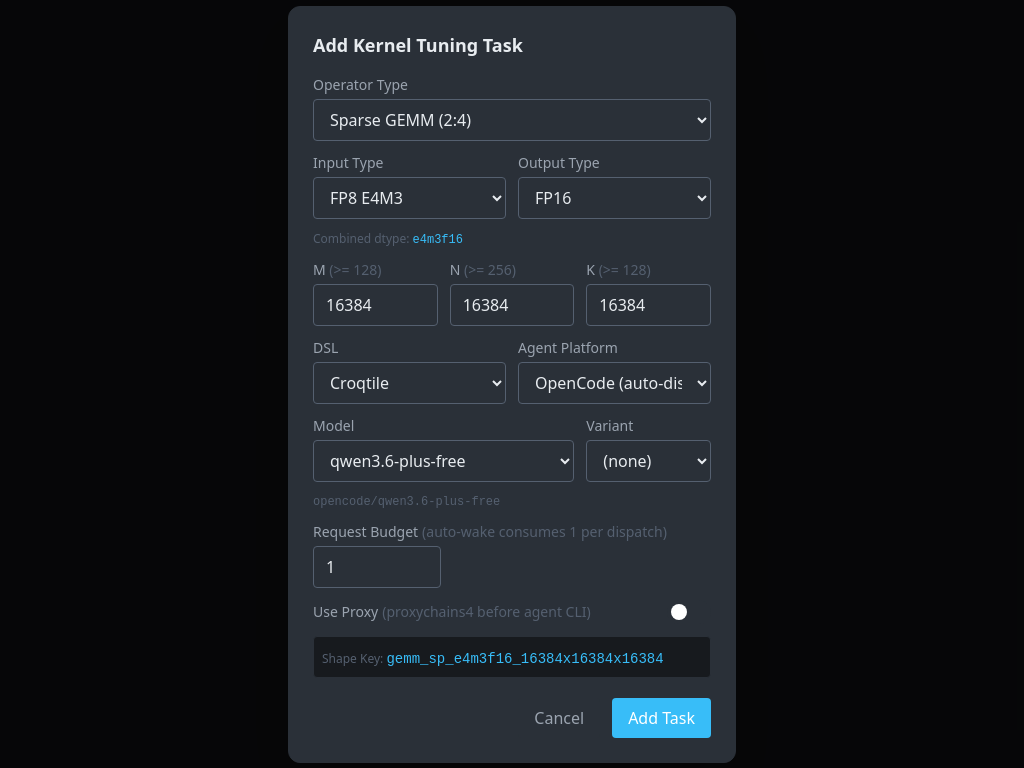
Test: AddTaskForm › shows validation error for M < 128
Replace the text in the 1st number field with "64" at (375, 304), box 313,284 -> 438,326
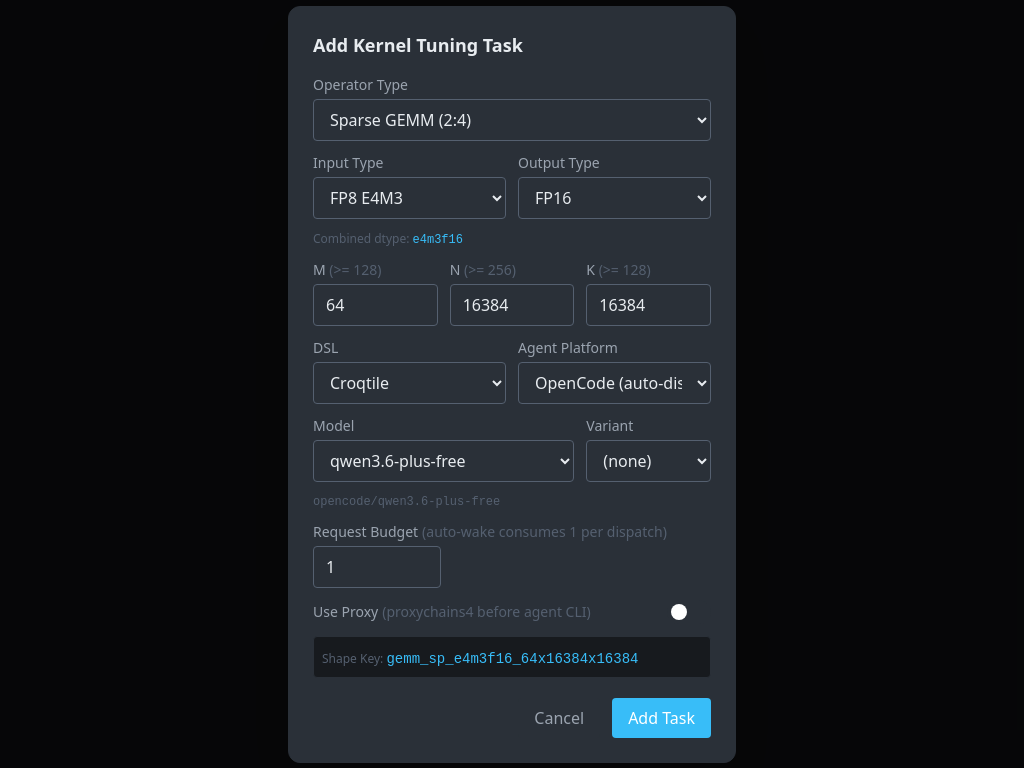
Replace the text in the number field below "256" with "512" at (512, 304), box 450,284 -> 574,326
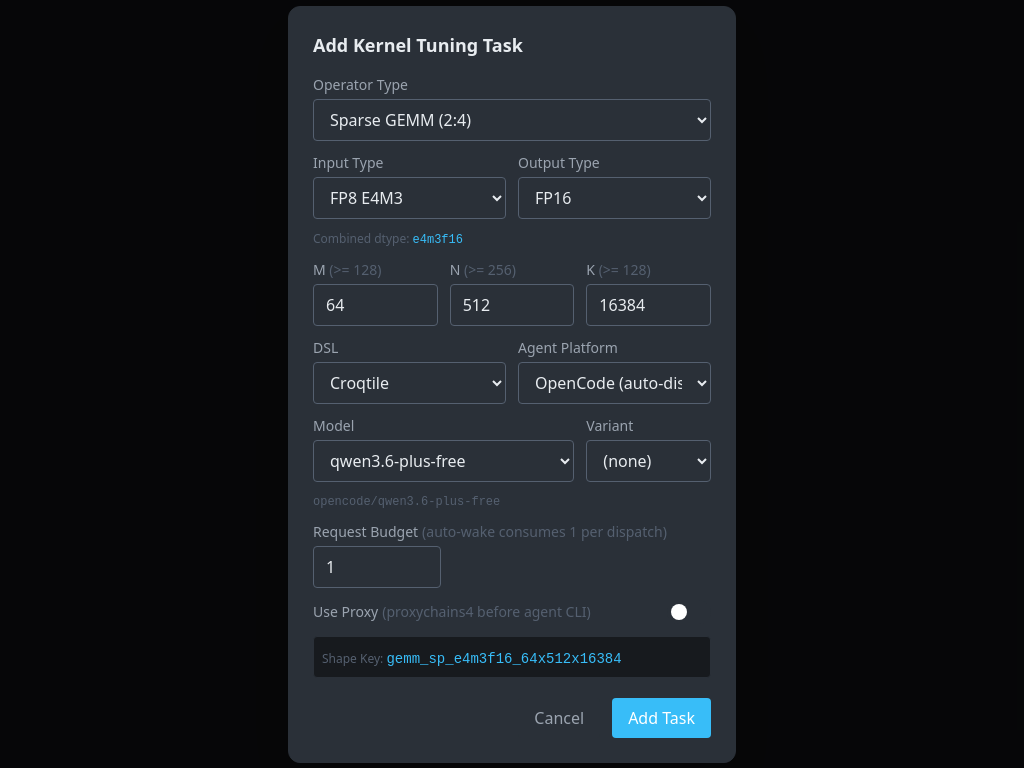
Replace the text in the 3rd number field with "512" at (649, 304), box 586,284 -> 711,326
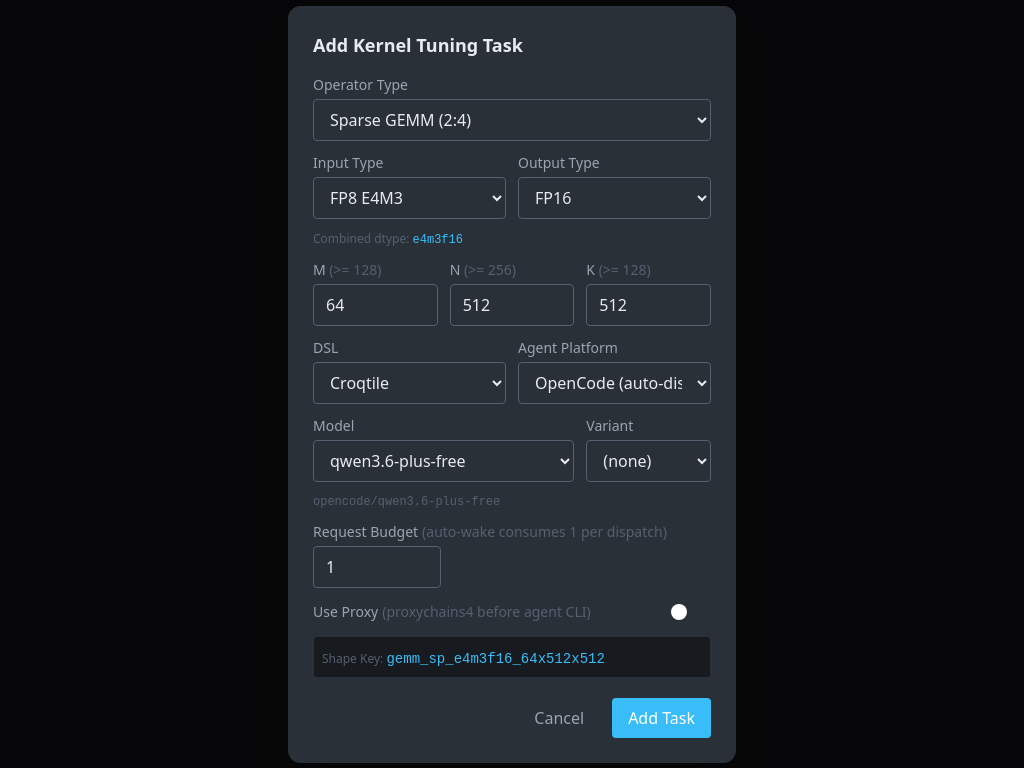
Submit the text "Add Task", box 288,6 -> 736,762
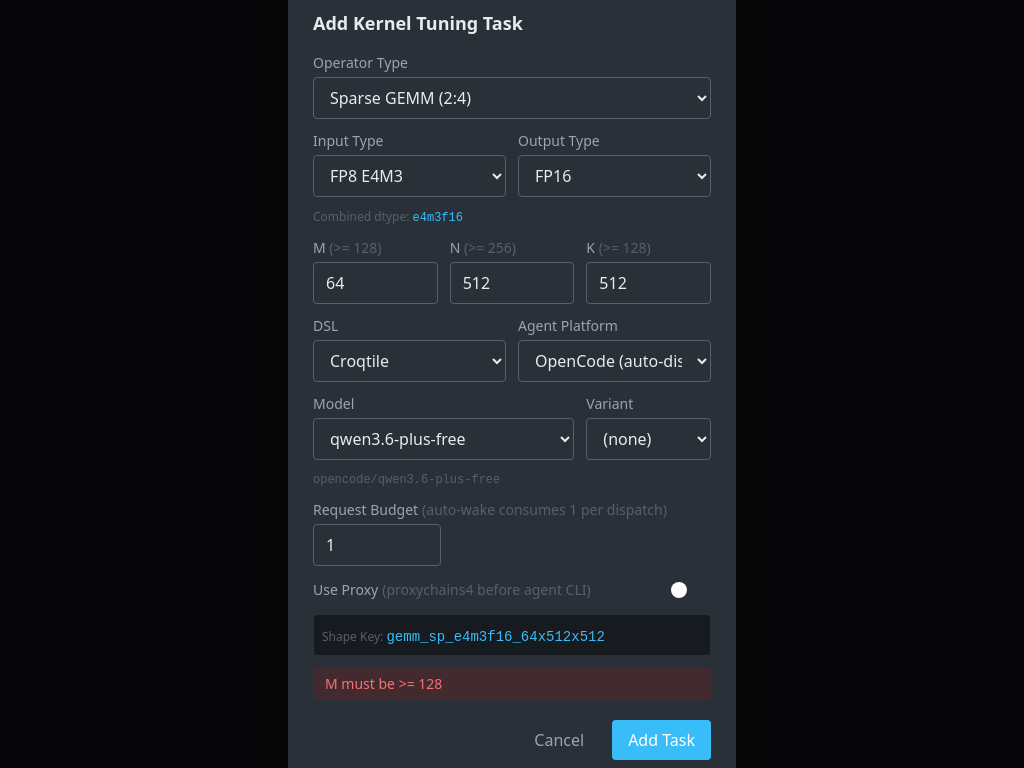
Result: the text "M must be >= 128" is shown at 313,668 -> 711,700
